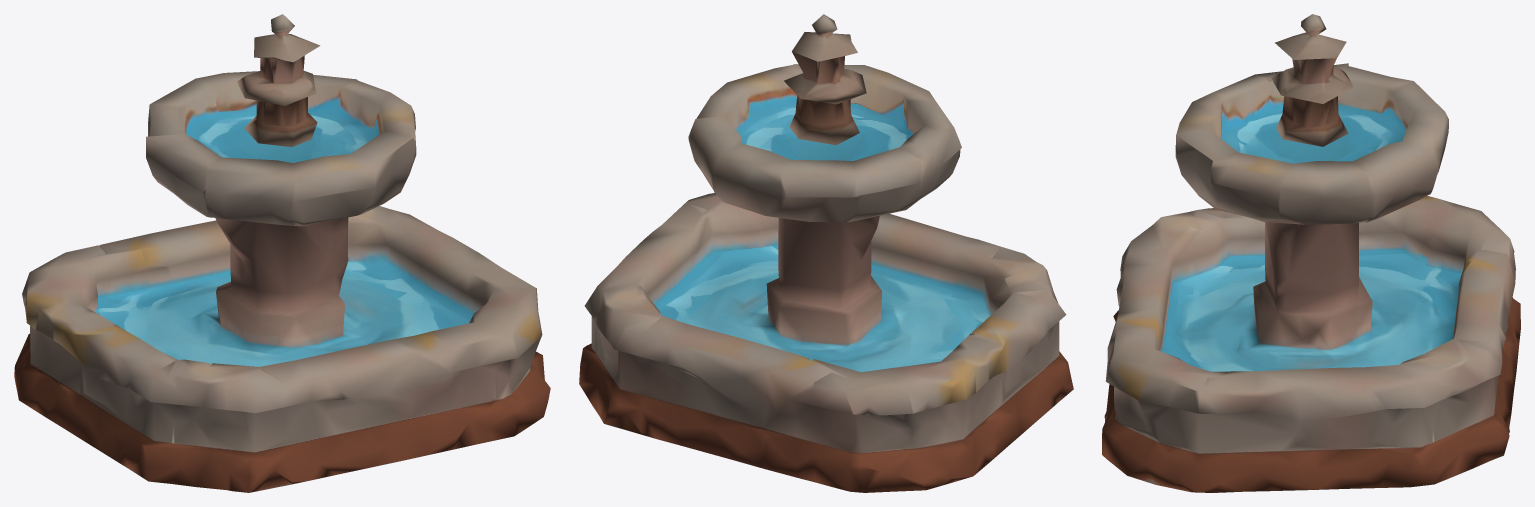
The model's file is fountain.glb.
3 views of the same model, side by side, from view 1: azimuth 30°, elevation 25°; view 2: azimuth 150°, elevation 25°; view 3: azimuth 270°, elevation 25° (orthographic).
Visible parts, largest first — view 1: tripo_node_c3fb4aac-47d8-4ace-adf9-5f8aa7d98747; view 2: tripo_node_c3fb4aac-47d8-4ace-adf9-5f8aa7d98747; view 3: tripo_node_c3fb4aac-47d8-4ace-adf9-5f8aa7d98747.
Part boxes in pixels (x1=…): tripo_node_c3fb4aac-47d8-4ace-adf9-5f8aa7d98747: x1=14, y1=14, x2=550, y2=492; tripo_node_c3fb4aac-47d8-4ace-adf9-5f8aa7d98747: x1=579, y1=14, x2=1073, y2=492; tripo_node_c3fb4aac-47d8-4ace-adf9-5f8aa7d98747: x1=1102, y1=14, x2=1520, y2=492.
Bounding box in the file's own units: 0.9808 × 0.8561 × 0.8572.
Materials: 1 (1 with a texture image).
